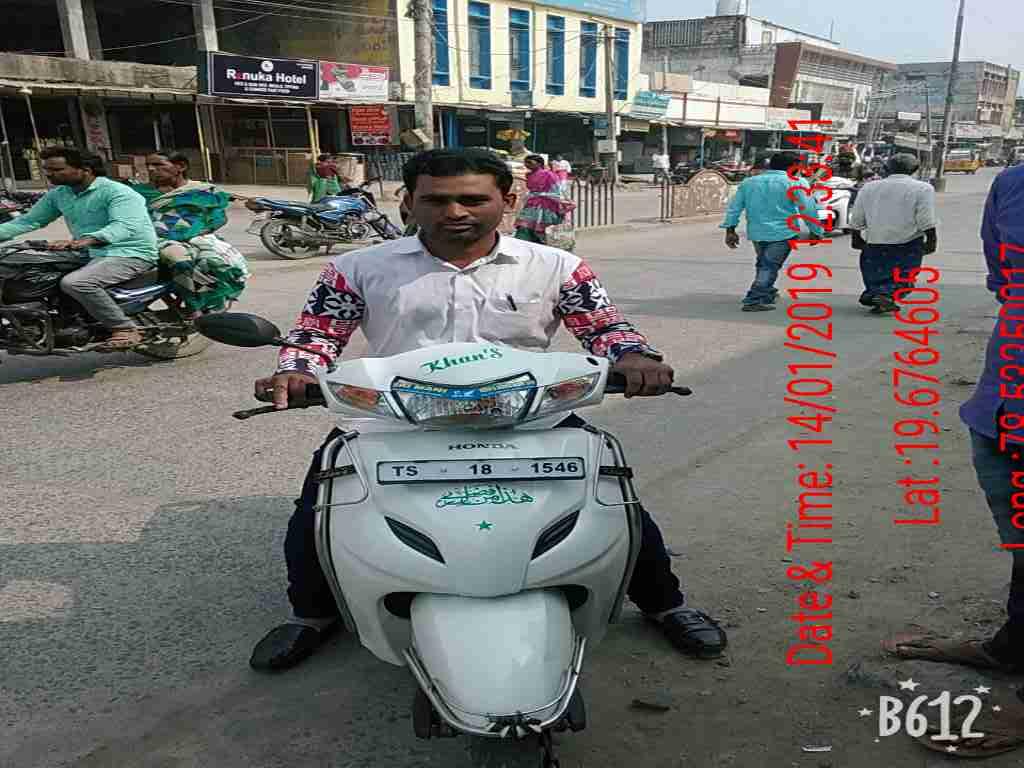plate: (373, 454, 596, 486)
